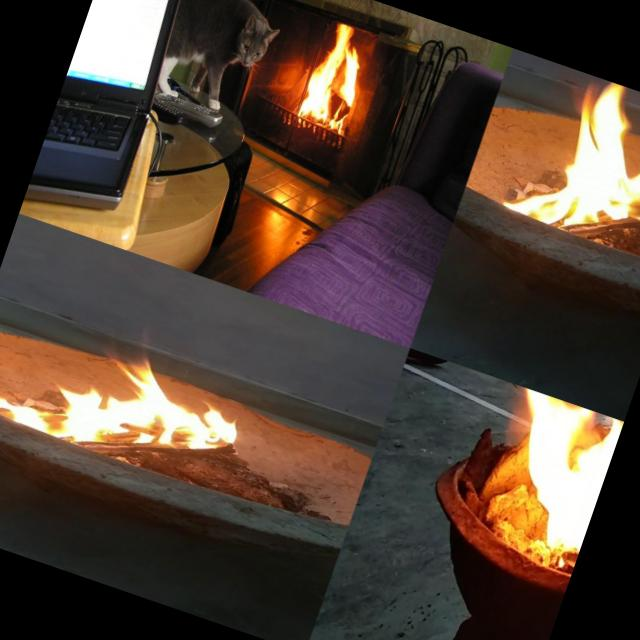fire: (0, 285, 260, 498), (448, 377, 623, 556), (494, 60, 640, 274), (288, 15, 378, 140)
